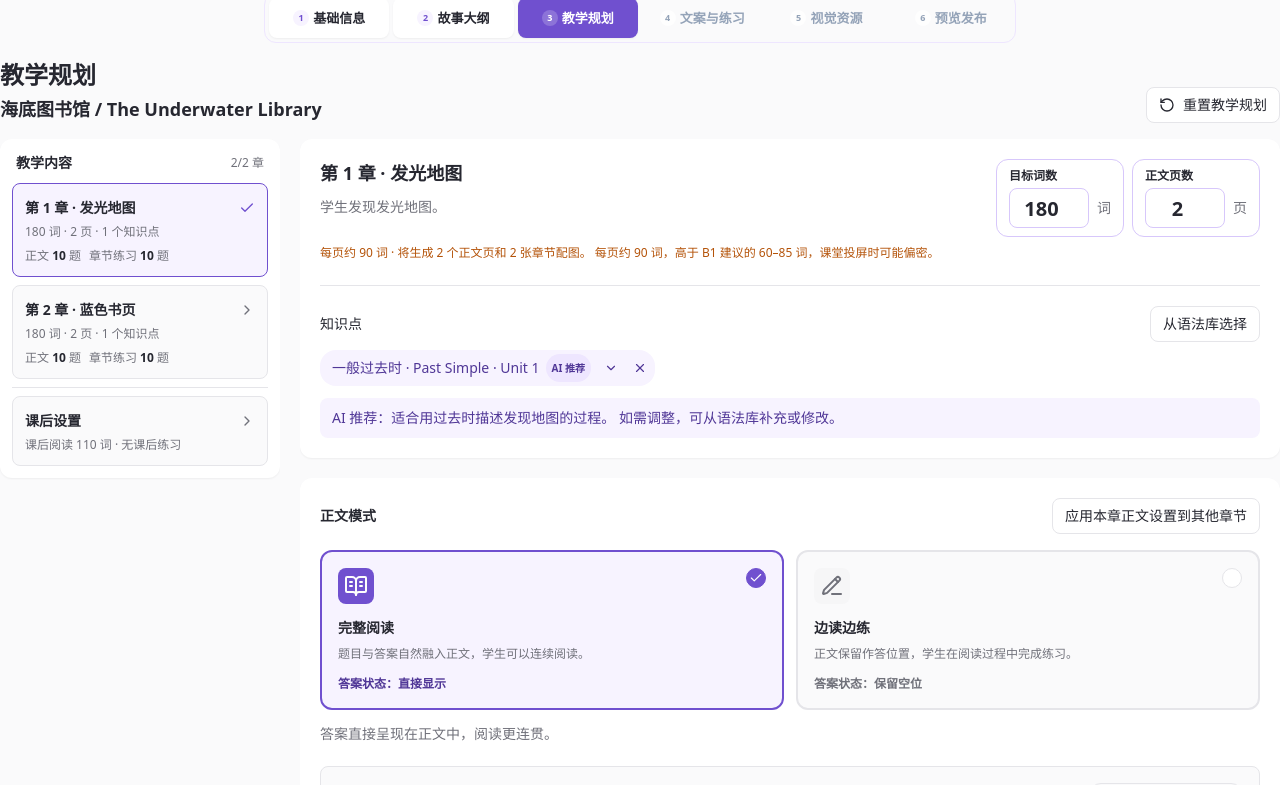
Test case: CourseTeachingPlanWorkspace › keeps numeric input editable but blocks confirmation with specific range errors
Step 1. Clear the number field named "第 1 章目标词数" → (1049, 208), box [1009, 188, 1089, 228]
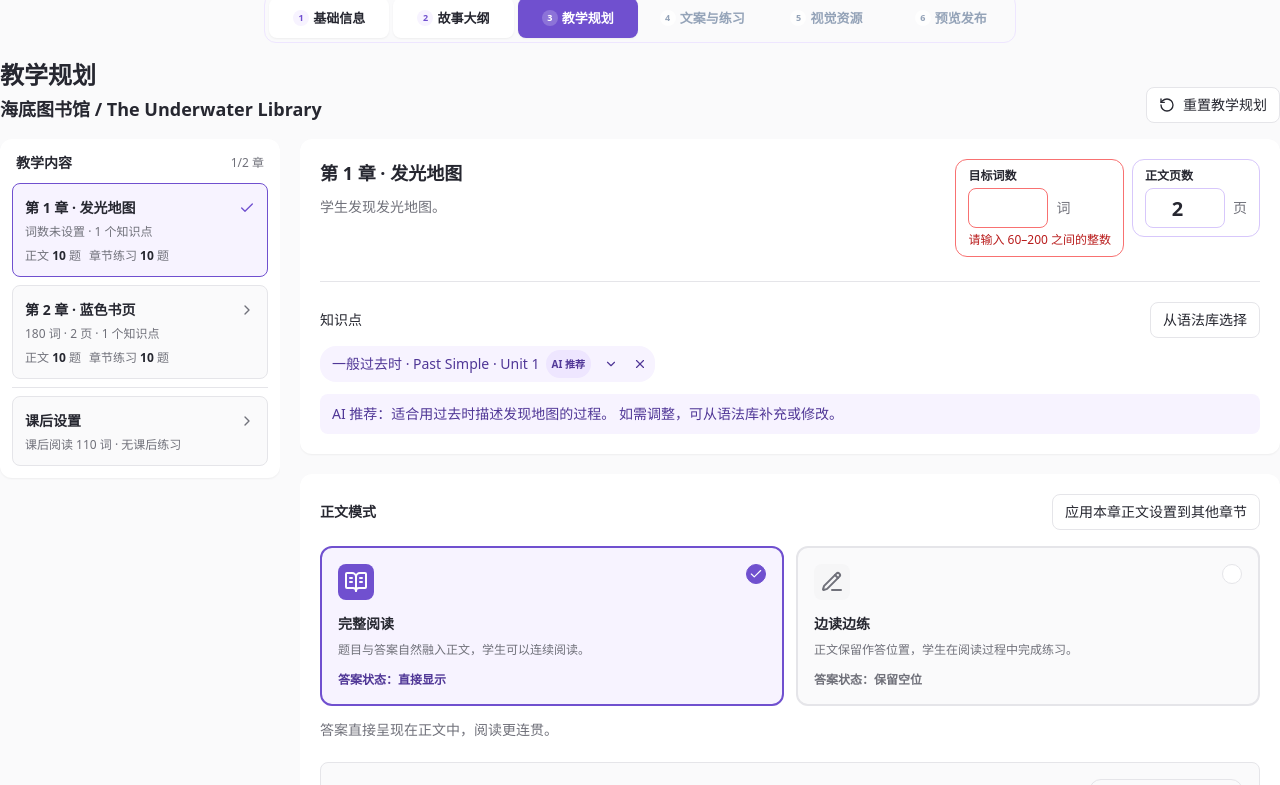
Result: the text "请输入 60–200 之间的整数" is shown at [968, 232, 1111, 248]
Step 2. Type "120" into the number field named "第 1 章目标词数" → (1008, 208), box [968, 188, 1048, 228]
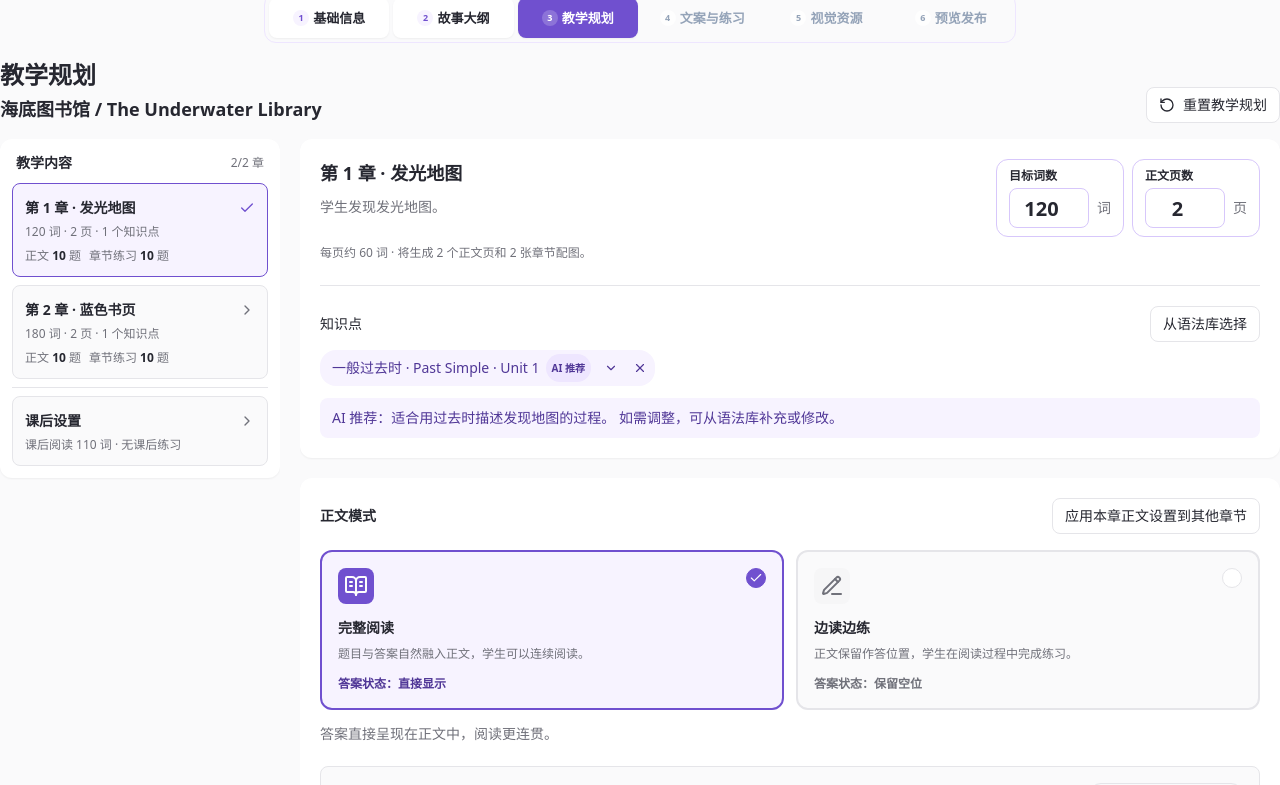
Step 3. Replace the text in the number field named "第 1 章正文页数" with "4" → (1185, 208), box [1145, 188, 1225, 228]
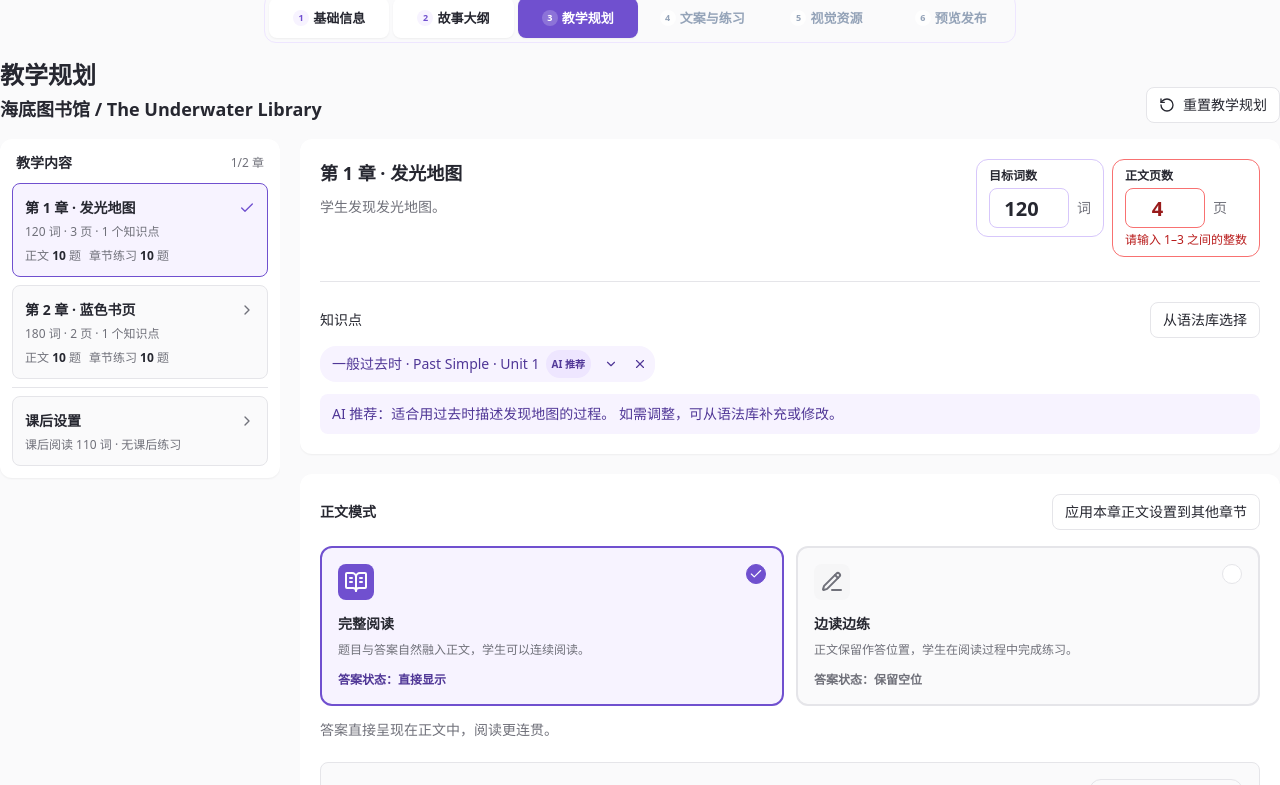
Result: the text "请输入 1–3 之间的整数" is shown at [1125, 232, 1247, 248]
Step 4. Replace the text in the number field named "第 1 章正文页数" with "3" → (1165, 208), box [1125, 188, 1205, 228]
(page scrolled)
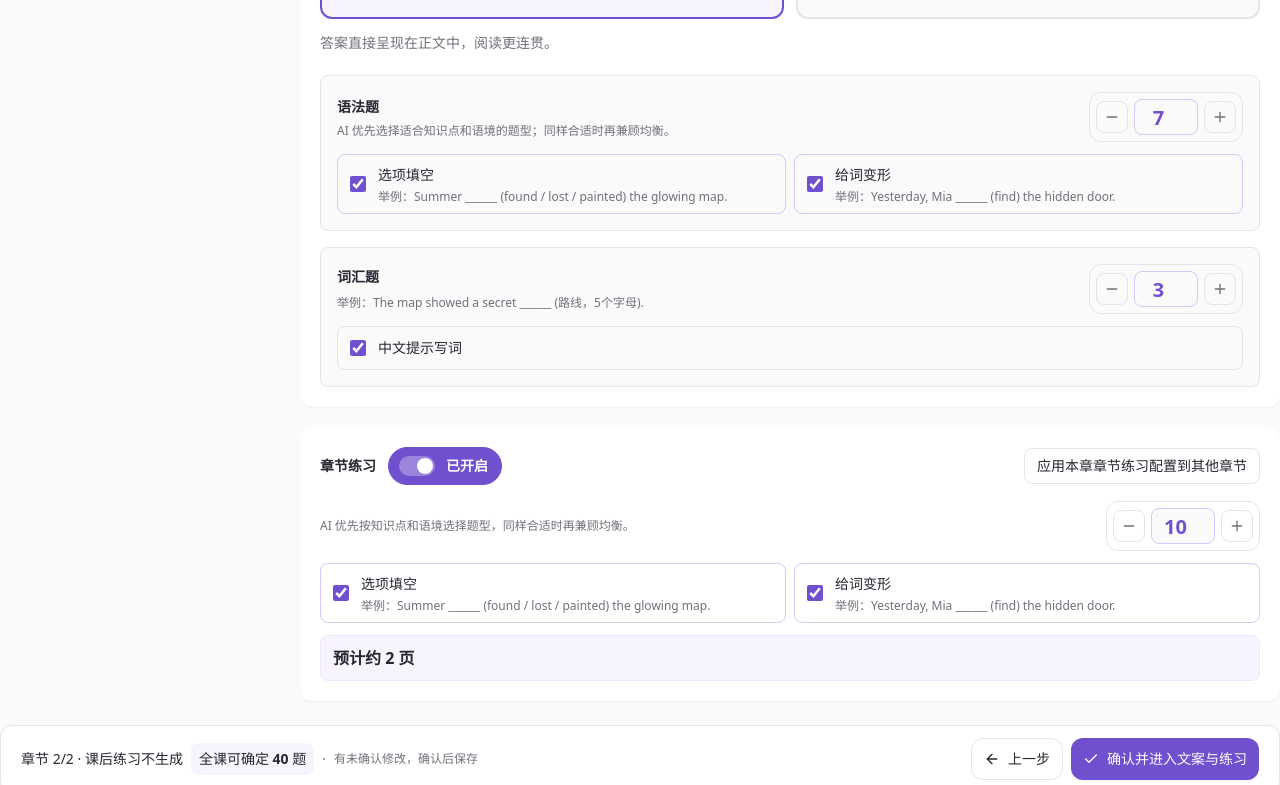
Result: the button "确认并进入文案与练习" is enabled at [1071, 738, 1259, 780]
